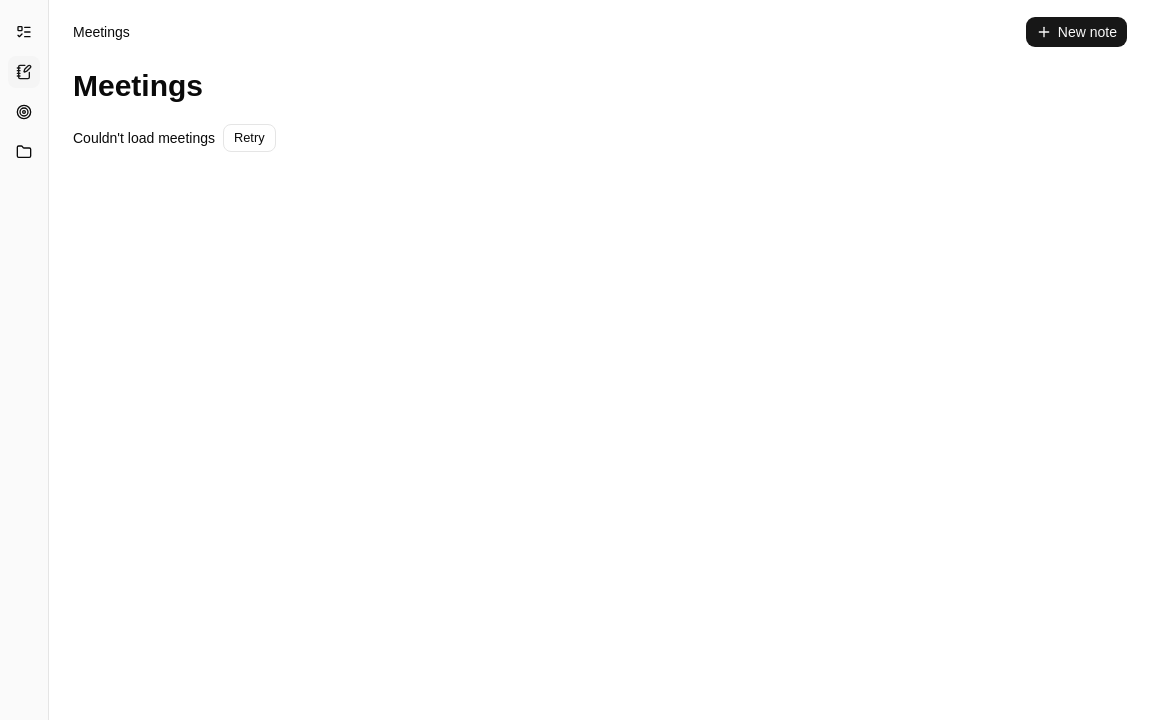
Scenario: Take meeting notes › shows an error with a Retry button when the list cannot be loaded
Expected: the text "Couldn't load meetings" is shown, [73,128,215,148]
Step 1. Click the button "Retry" → (249, 138), box [223,124,276,152]
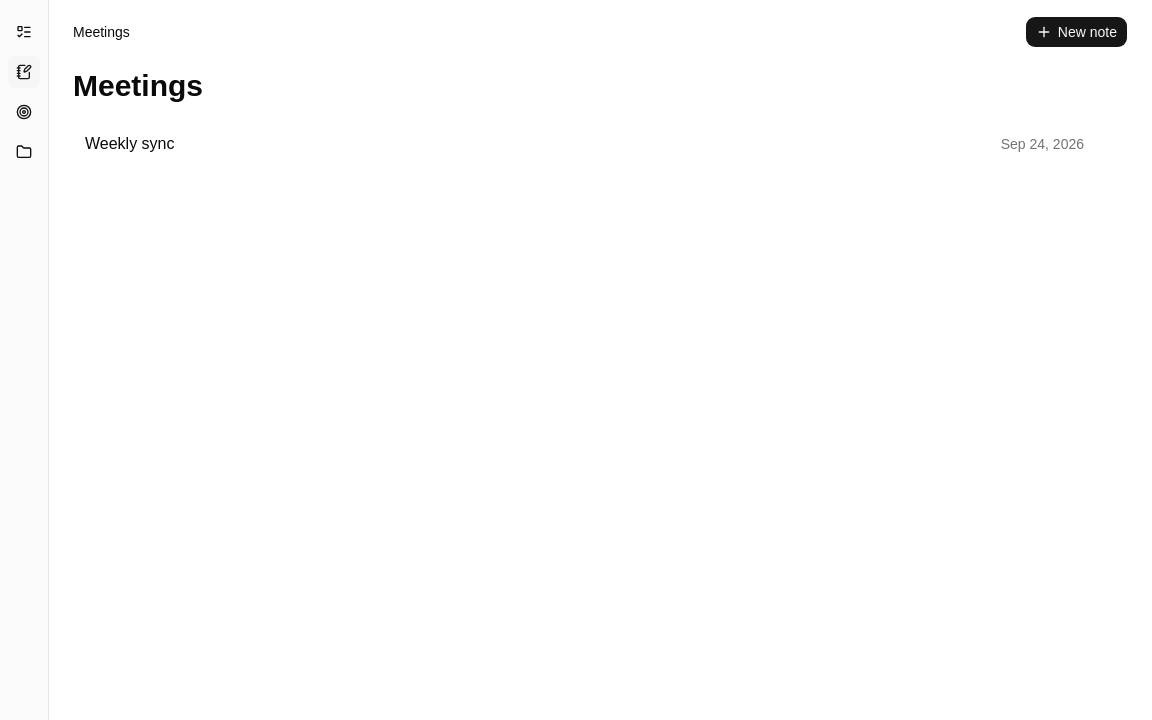
Now the link "Weekly sync Sep 24, 2026" is shown, box [85,135,1084,152]
